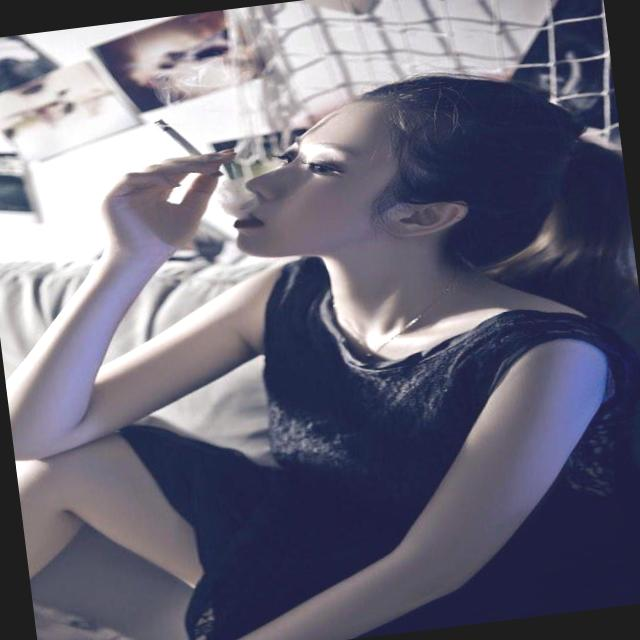cigarette: (144, 93, 214, 186)
